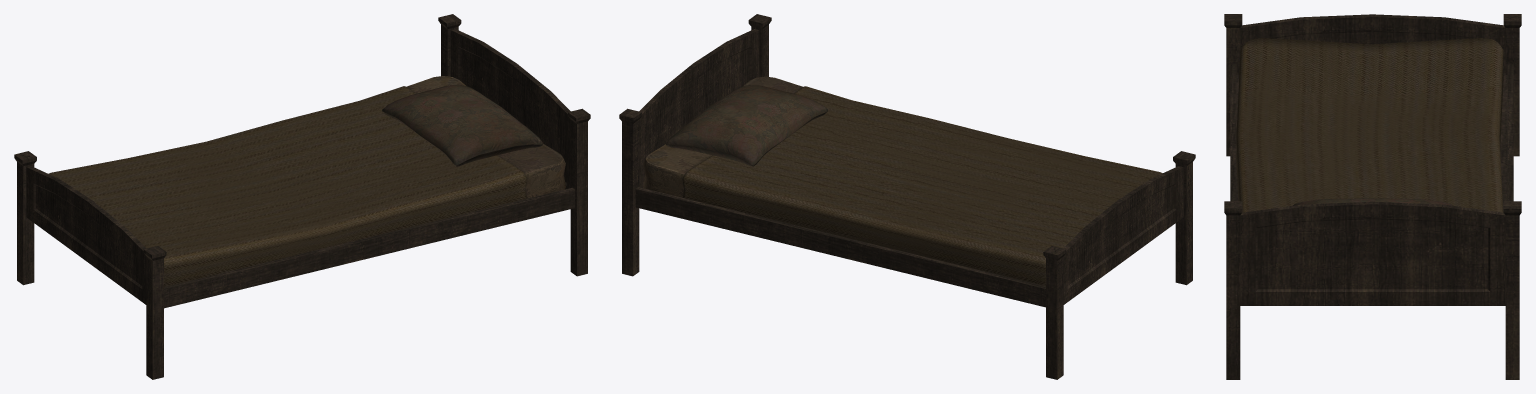
The model's file is bed_5_2.dae.
The picture shows the model from 3 angles, left to right: view 1: azimuth 30°, elevation 25°; view 2: azimuth 150°, elevation 25°; view 3: azimuth 270°, elevation 25°; orthographic projection. The views are drawn at different scales.
Parts seen in each view (by area): view 1: bed_5_2; view 2: bed_5_2; view 3: bed_5_2.
Boxes of the visible parts, left/top/right/bottom form: bed_5_2: left=14, top=14, right=590, bottom=379; bed_5_2: left=619, top=14, right=1195, bottom=379; bed_5_2: left=1224, top=14, right=1521, bottom=379.
Bounding box in the file's own units: 2.74 × 1.49 × 0.9621.
3 materials, 3 textured.
